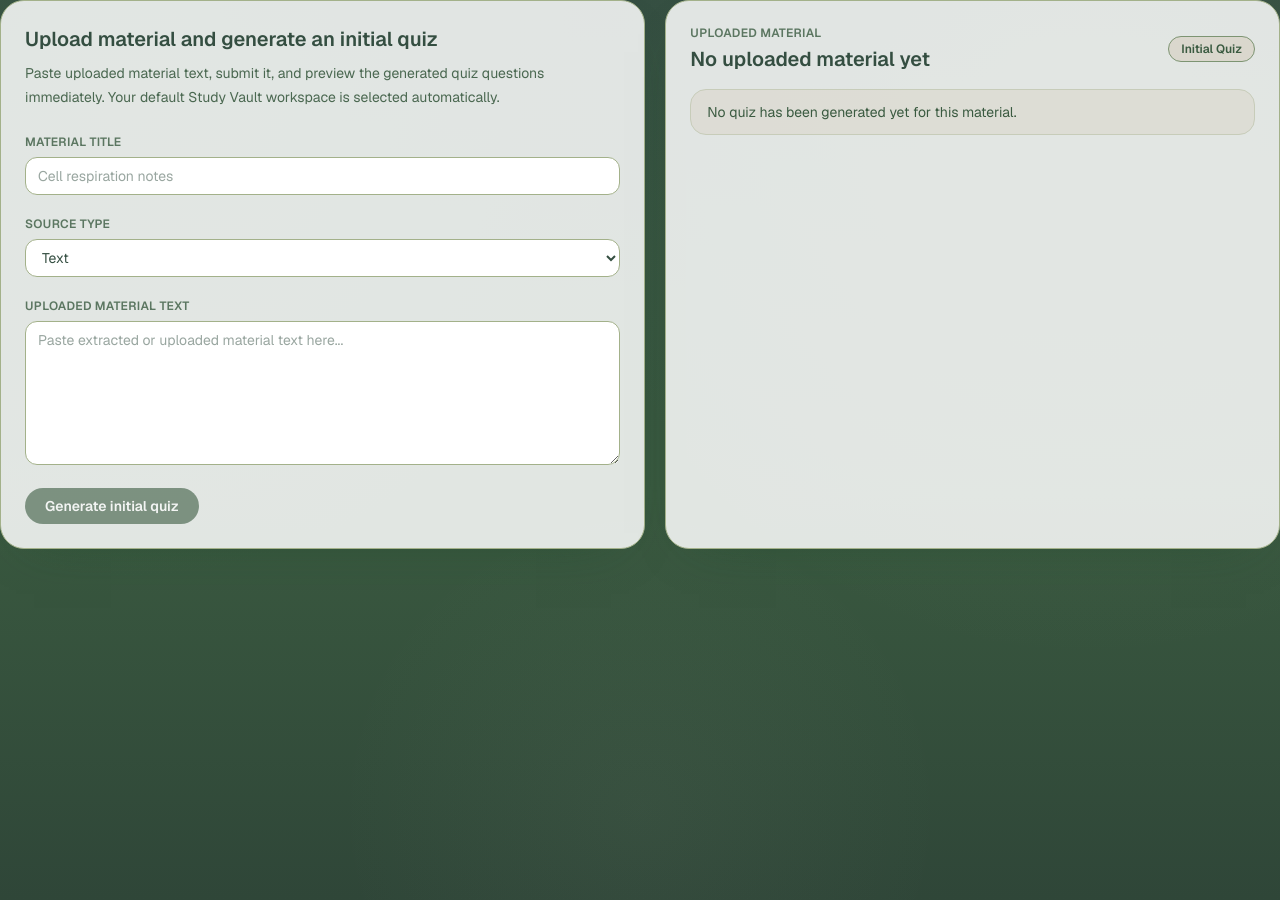
Test: MaterialUploadQuizWorkbench › surfaces a warning when upload succeeds without an initial quiz
The width and height of the screenshot is (1280, 900).
Type "No quiz material" into the field labelled "Material title".
click(323, 176); type("No quiz material")  # box [25,157,620,195]
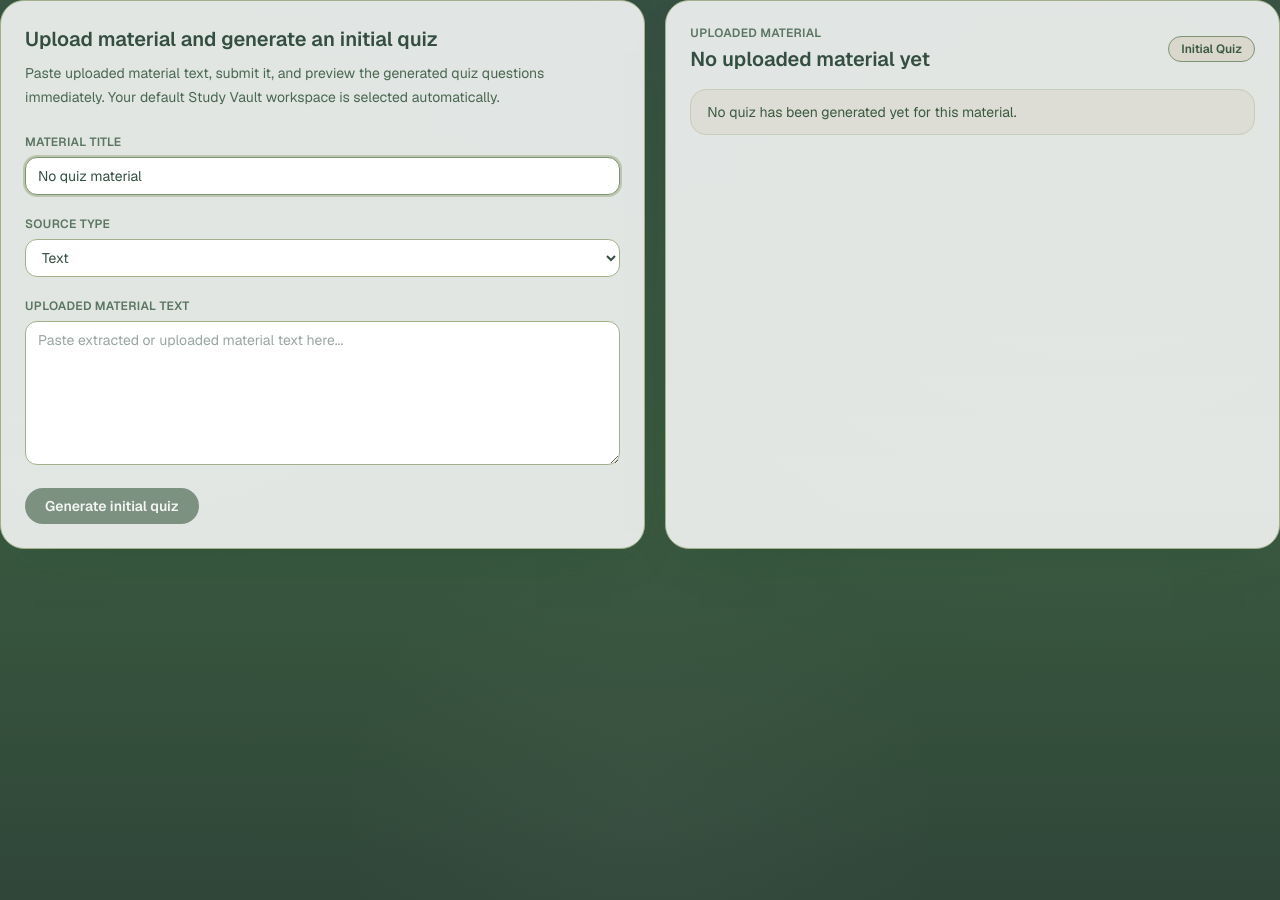
Type "This is enough material text content to satisfy the minimum length requirement." into the text box labelled "Uploaded material text".
click(323, 393); type("This is enough material text content to satisfy the minimum length requirement.")  # box [25,321,620,465]
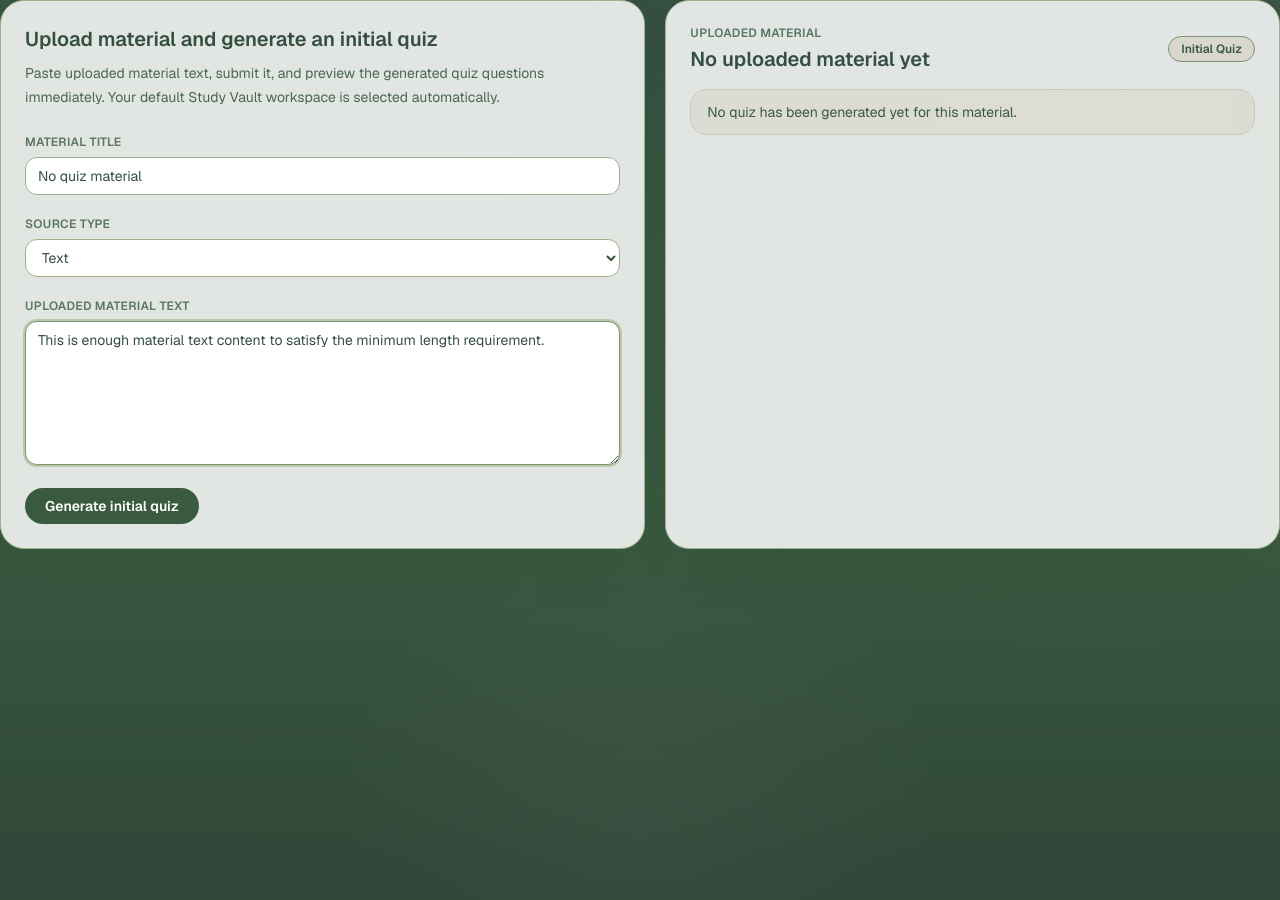
Click the button "Generate initial quiz".
click(112, 506)  # box [25,488,199,524]
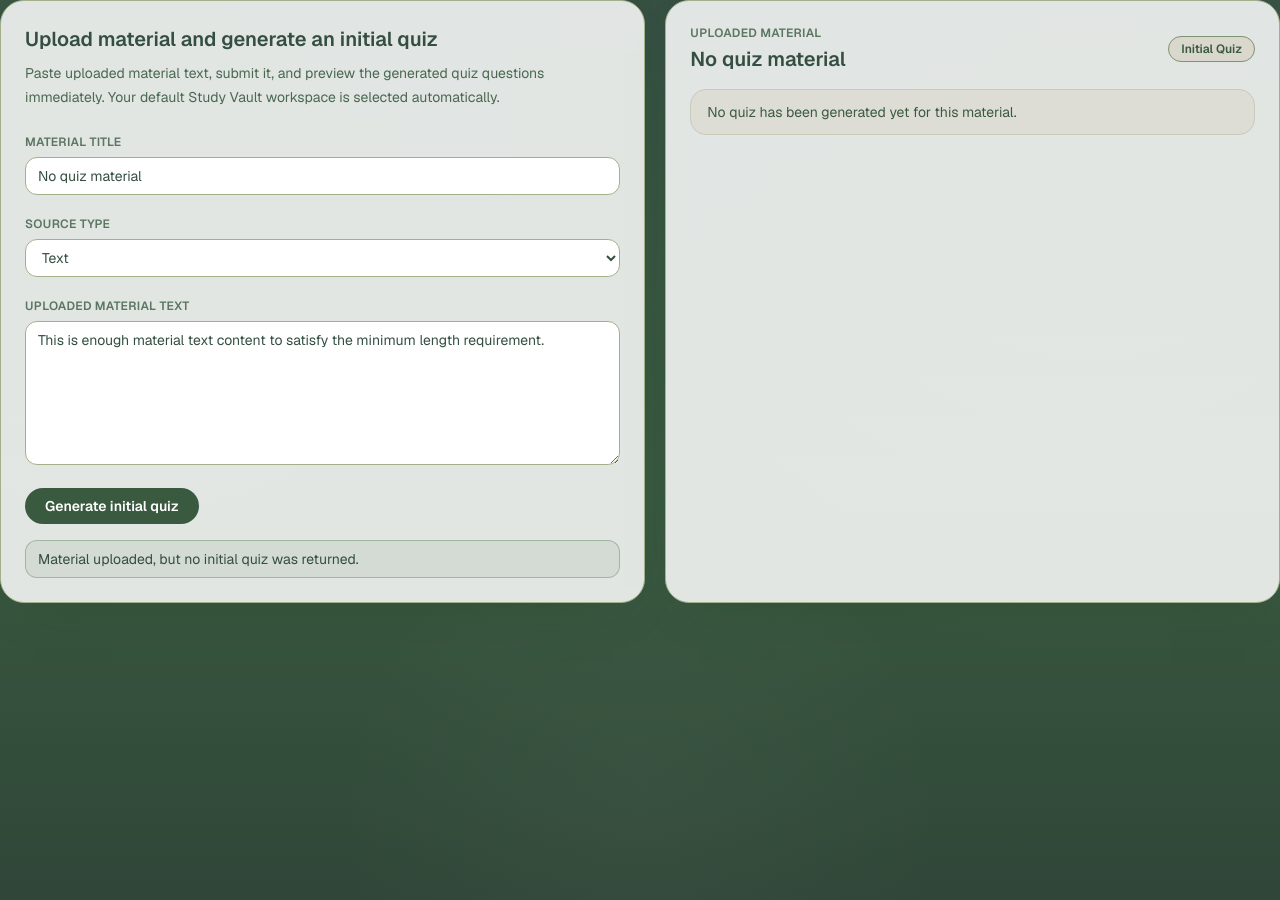
Expected: the text "No quiz has been generated yet for this material." is shown, [690,89,1255,135]
Expected: the text "Material uploaded, but no initial quiz was returned." is shown, [25,540,620,578]
